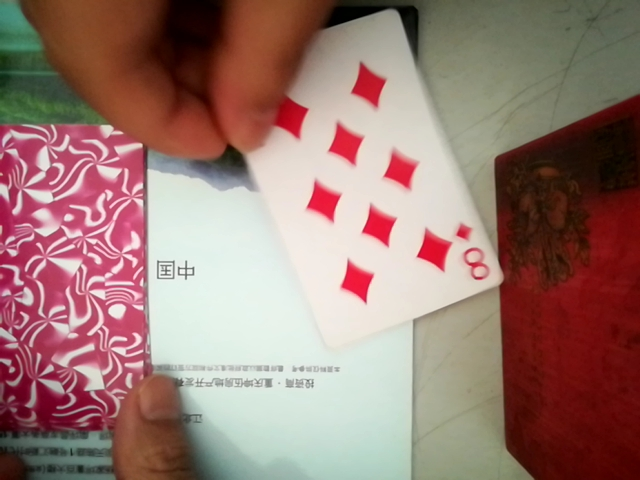fk 8: (248, 3, 509, 361)
